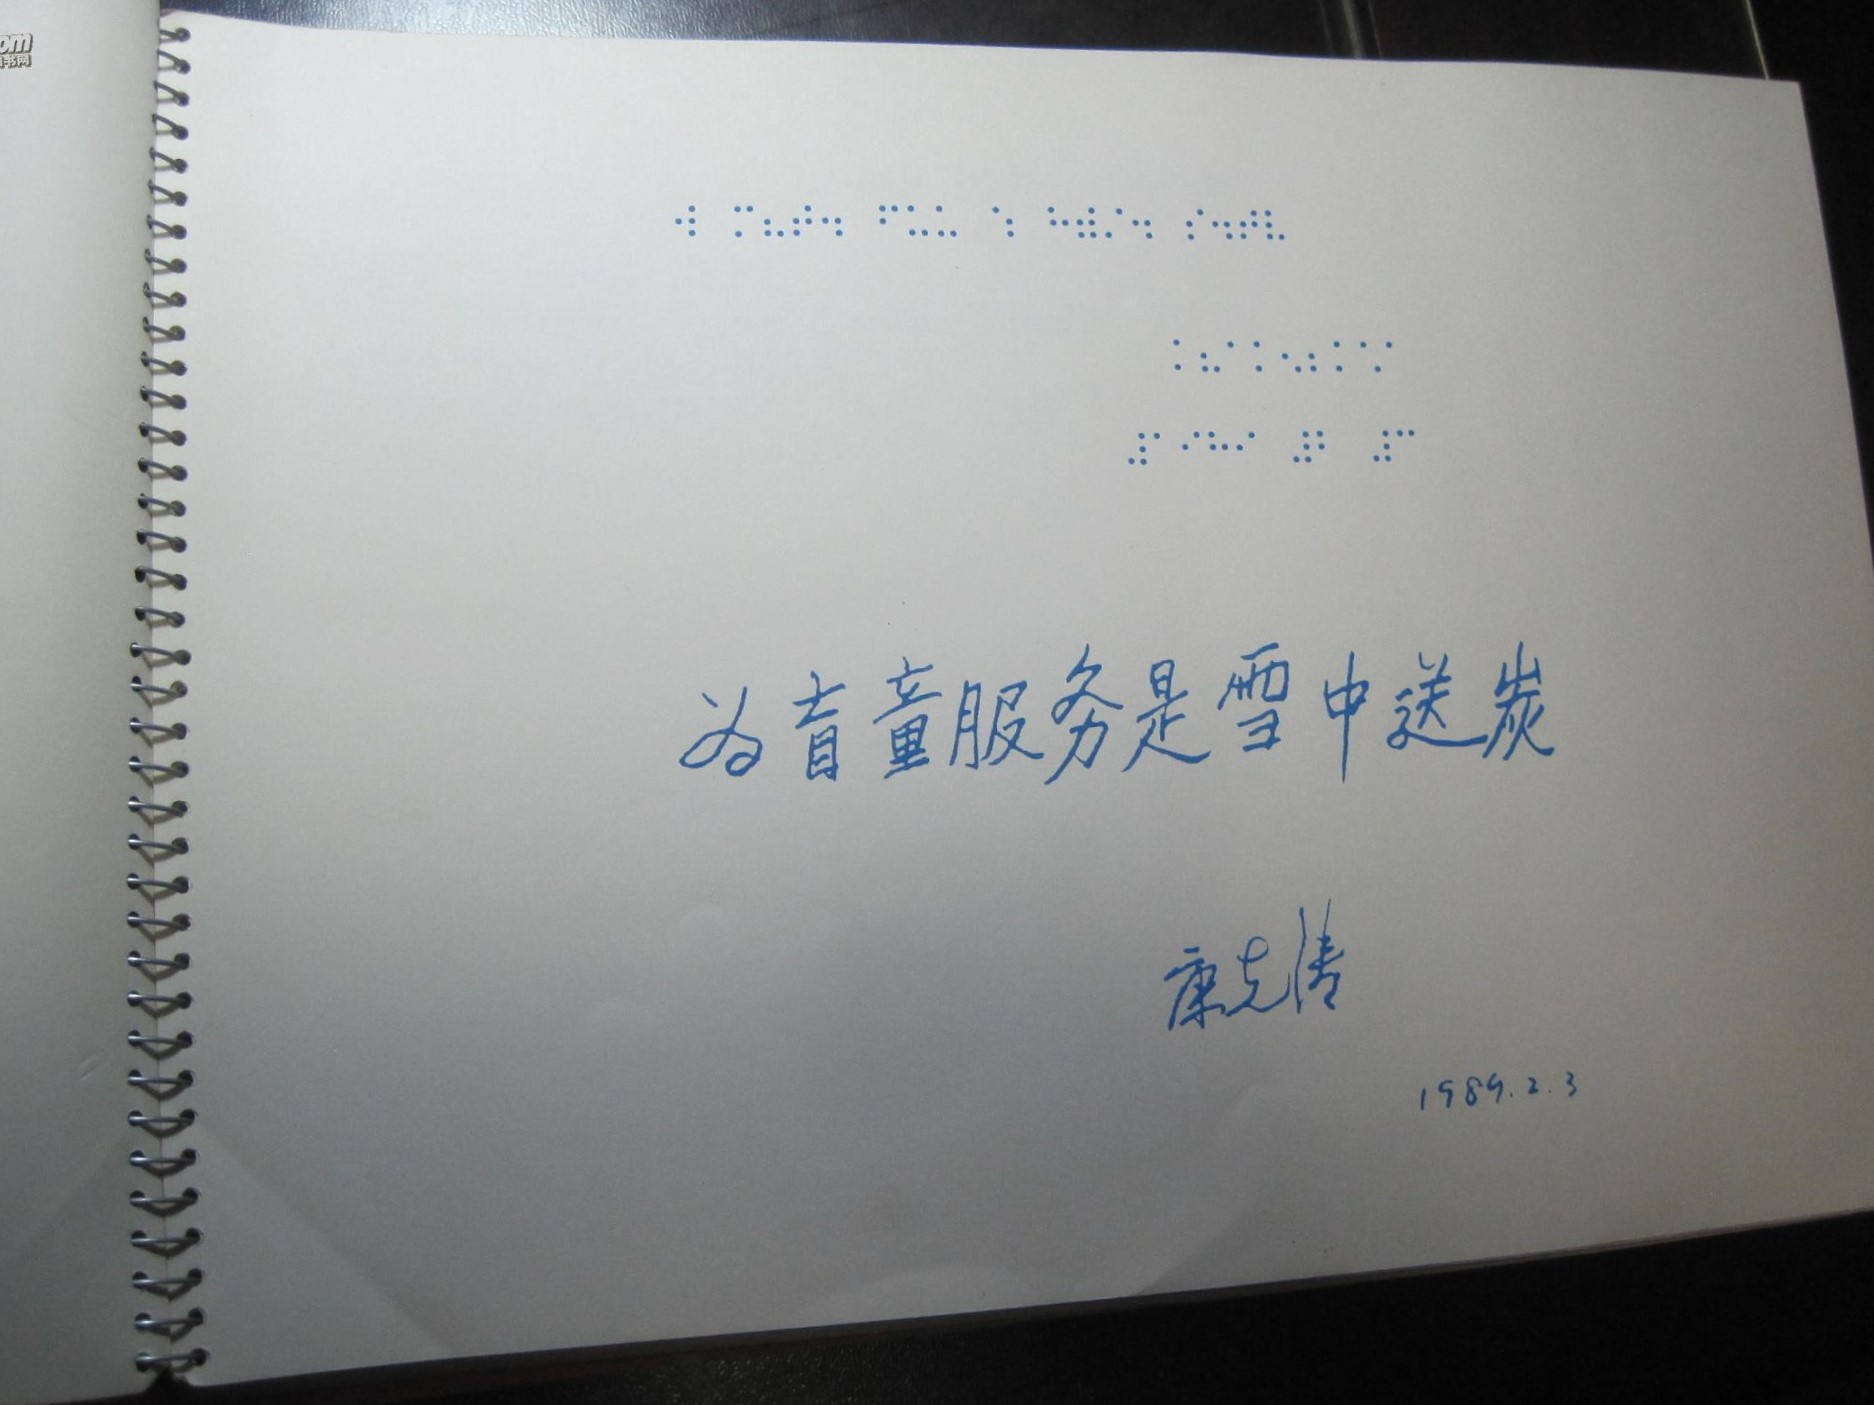Braille: (1358, 338, 1383, 376), (1386, 339, 1411, 376), (1316, 429, 1341, 466), (1225, 338, 1248, 375), (1281, 339, 1304, 376), (1209, 428, 1231, 466), (1235, 429, 1257, 466), (992, 205, 1015, 239), (1180, 429, 1201, 468), (674, 202, 696, 238), (733, 204, 756, 239), (936, 204, 958, 239), (1046, 204, 1068, 239), (1102, 205, 1124, 241), (1251, 338, 1273, 373), (1332, 338, 1355, 373), (1371, 428, 1393, 463), (1126, 431, 1148, 466), (1152, 432, 1175, 468), (1200, 336, 1220, 373), (907, 204, 930, 238), (1130, 207, 1152, 241), (1183, 208, 1206, 242), (1211, 208, 1234, 242), (1396, 428, 1418, 462), (1293, 429, 1313, 465), (820, 205, 843, 238), (1265, 210, 1287, 242), (764, 204, 785, 238), (878, 204, 899, 238), (1077, 207, 1098, 241), (1307, 339, 1328, 373), (792, 205, 813, 238), (1239, 210, 1260, 241), (1173, 338, 1191, 372)
